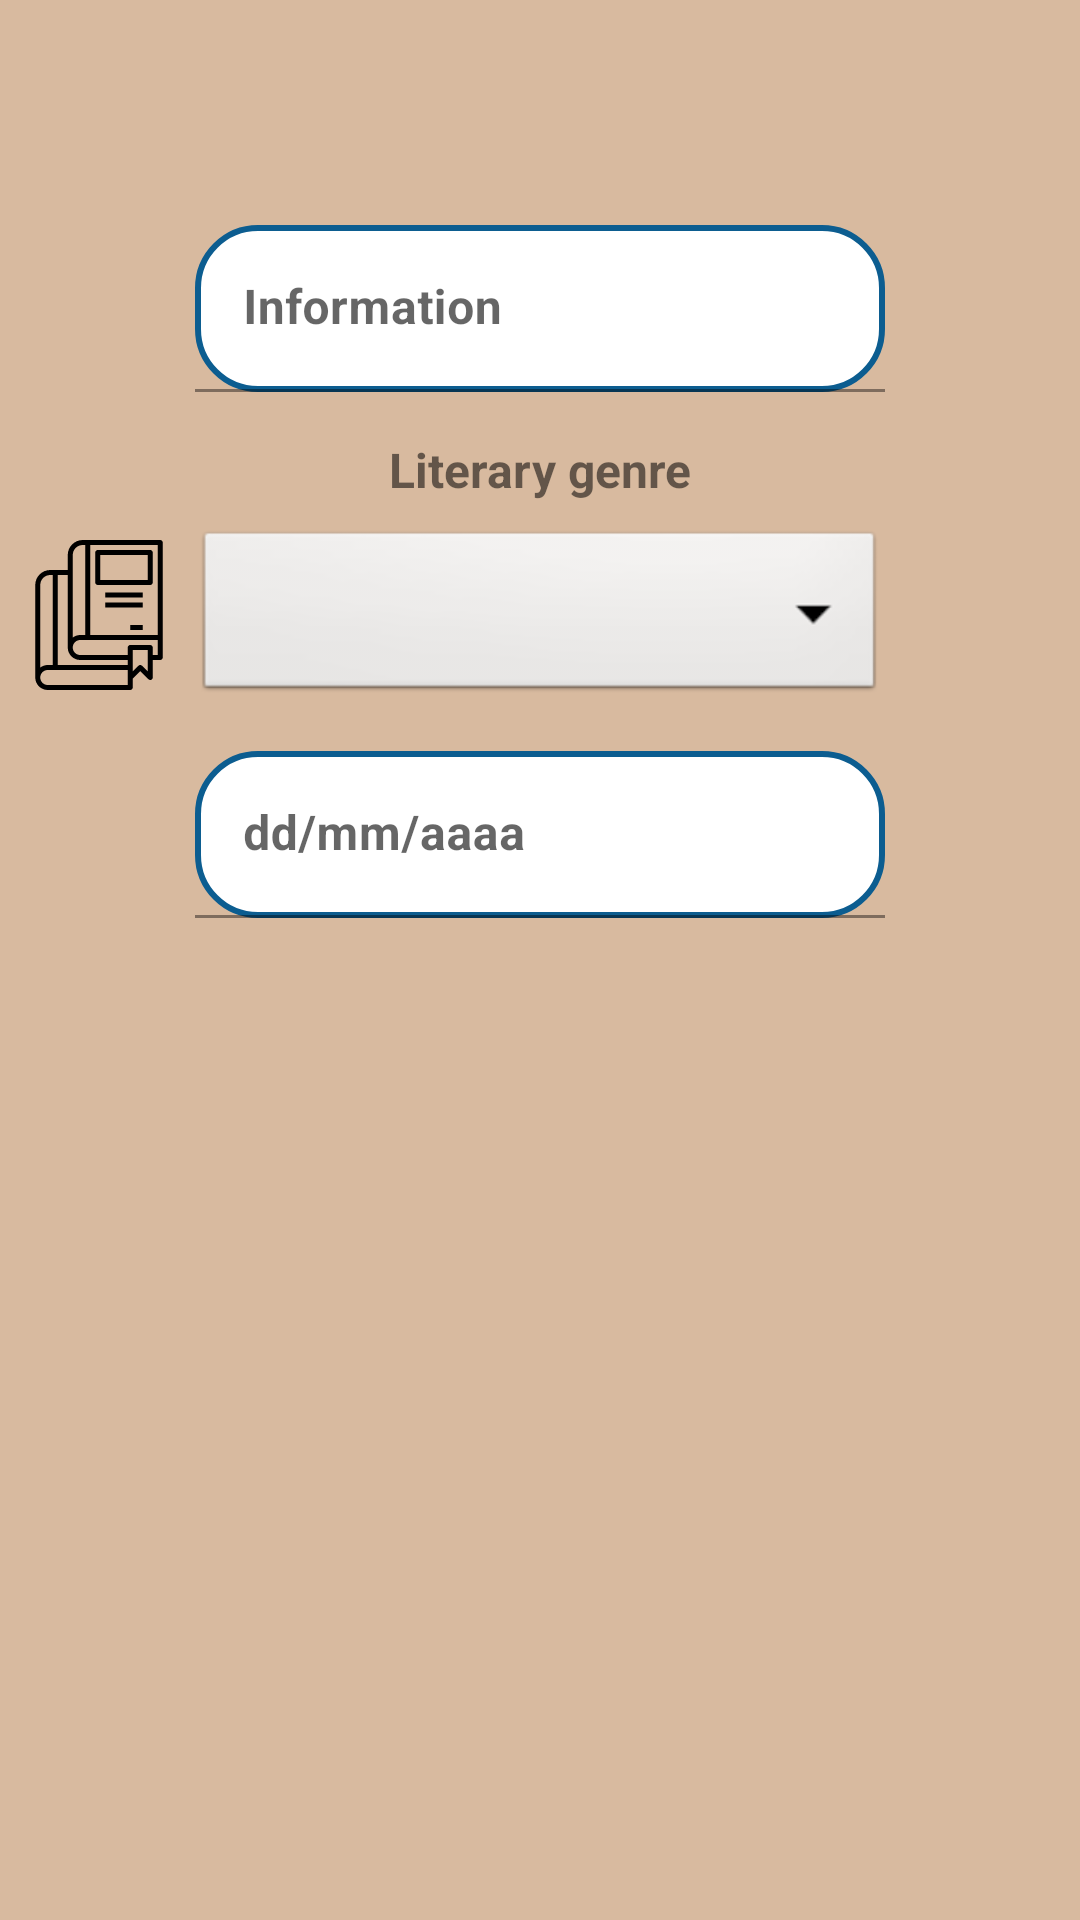

Icon bounding boxes for this 1080x1920 phone screenshot, format {"left": x1, "top": y1, "right": x2, "bottom": y2}:
libros: {"left": 35, "top": 540, "right": 163, "bottom": 690}
